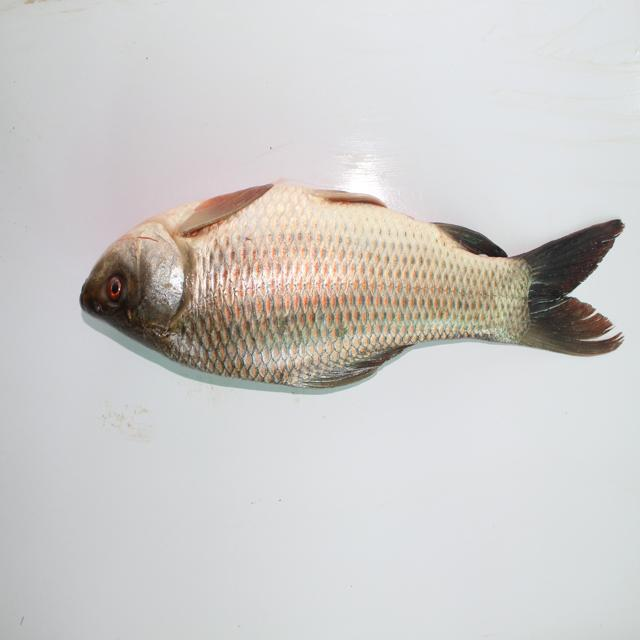Rohu: (70, 170, 630, 415)
